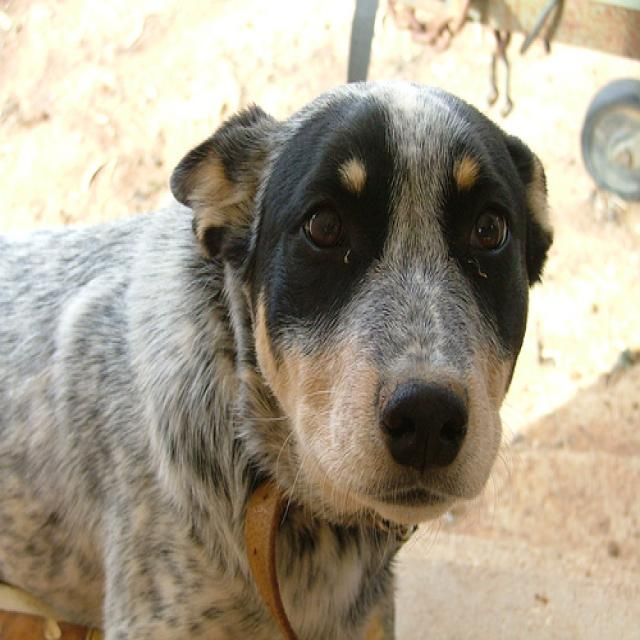dog-german_shorthaired: (1, 72, 563, 637)
